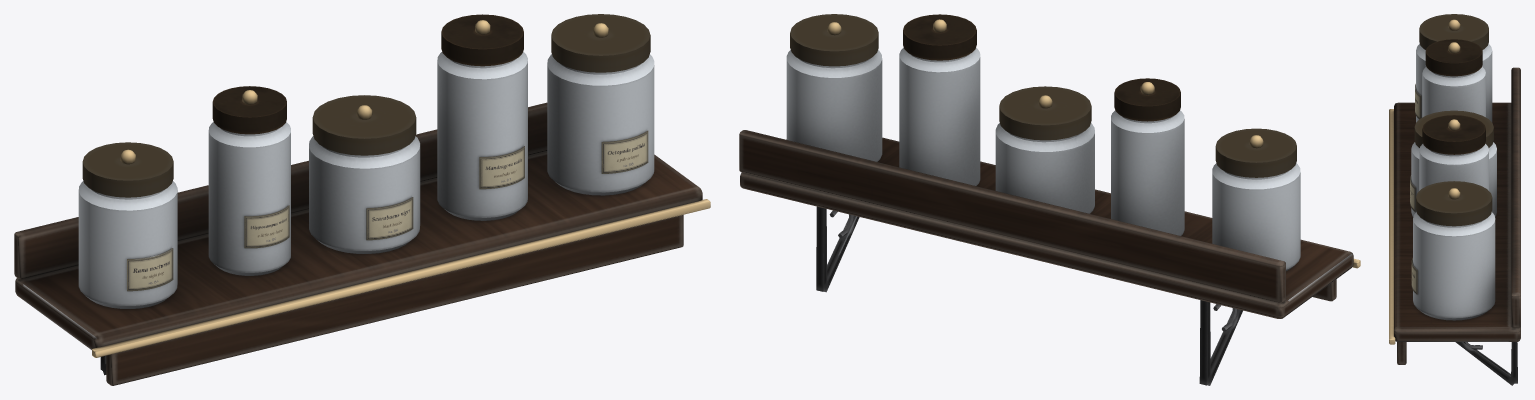
Rendered from SpecimenJars.fbx.
3 renders of one model, left to right at view 1: azimuth 30°, elevation 25°; view 2: azimuth 150°, elevation 25°; view 3: azimuth 270°, elevation 25°, orthographic. The views are drawn at different scales.
Parts seen in each view (by area): view 1: SpecimenJars_Main, SpecimenJars_Glass; view 2: SpecimenJars_Main, SpecimenJars_Glass; view 3: SpecimenJars_Main, SpecimenJars_Glass.
Part boxes in pixels (x1=…): SpecimenJars_Main: x1=14, y1=14, x2=710, y2=385; SpecimenJars_Glass: x1=78, y1=51, x2=654, y2=308; SpecimenJars_Main: x1=739, y1=14, x2=1360, y2=385; SpecimenJars_Glass: x1=786, y1=47, x2=1300, y2=271; SpecimenJars_Main: x1=1389, y1=14, x2=1520, y2=385; SpecimenJars_Glass: x1=1411, y1=43, x2=1496, y2=320.
Size of the model in its own units: 344 by 160 by 83.
